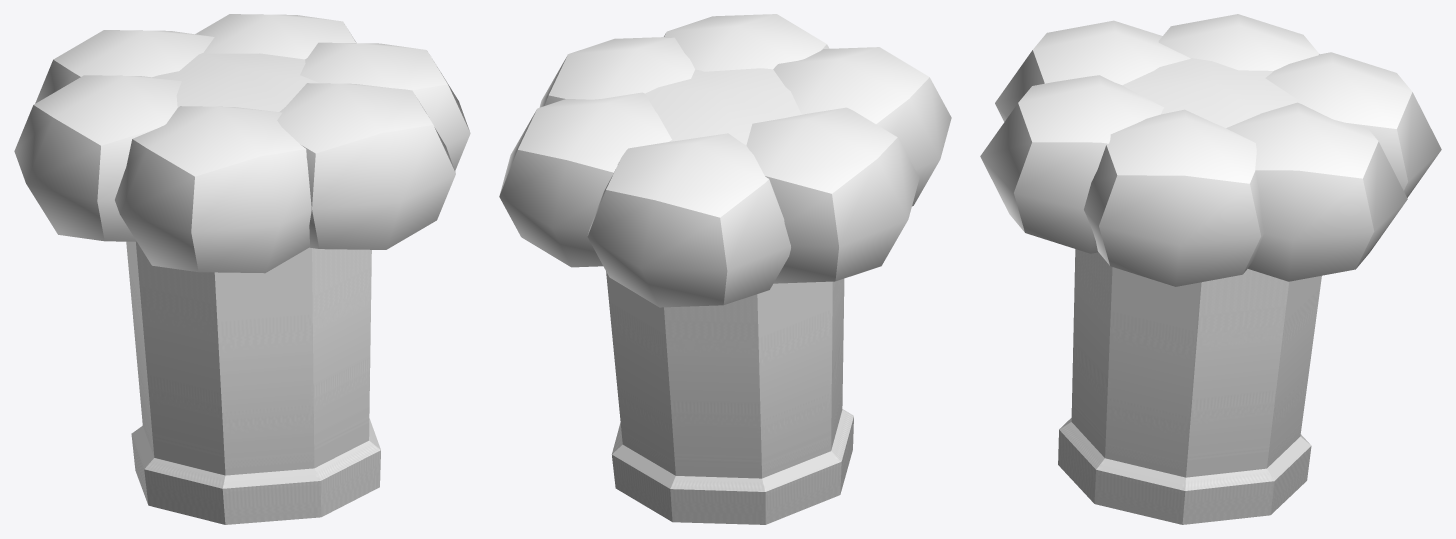
Rendered from hat_chefhat.fbx.
3 renders of one model, left to right at view 1: azimuth 30°, elevation 25°; view 2: azimuth 150°, elevation 25°; view 3: azimuth 270°, elevation 25°, orthographic. The views are drawn at different scales.
Visible parts, largest first — view 1: ChefHat_OBJ; view 2: ChefHat_OBJ; view 3: ChefHat_OBJ.
Boxes of the visible parts, <box> form: ChefHat_OBJ: <box>14,14,470,524</box>; ChefHat_OBJ: <box>499,14,951,524</box>; ChefHat_OBJ: <box>980,14,1441,524</box>.
Size of the model in its own units: 2.8 by 2.79 by 2.82.
